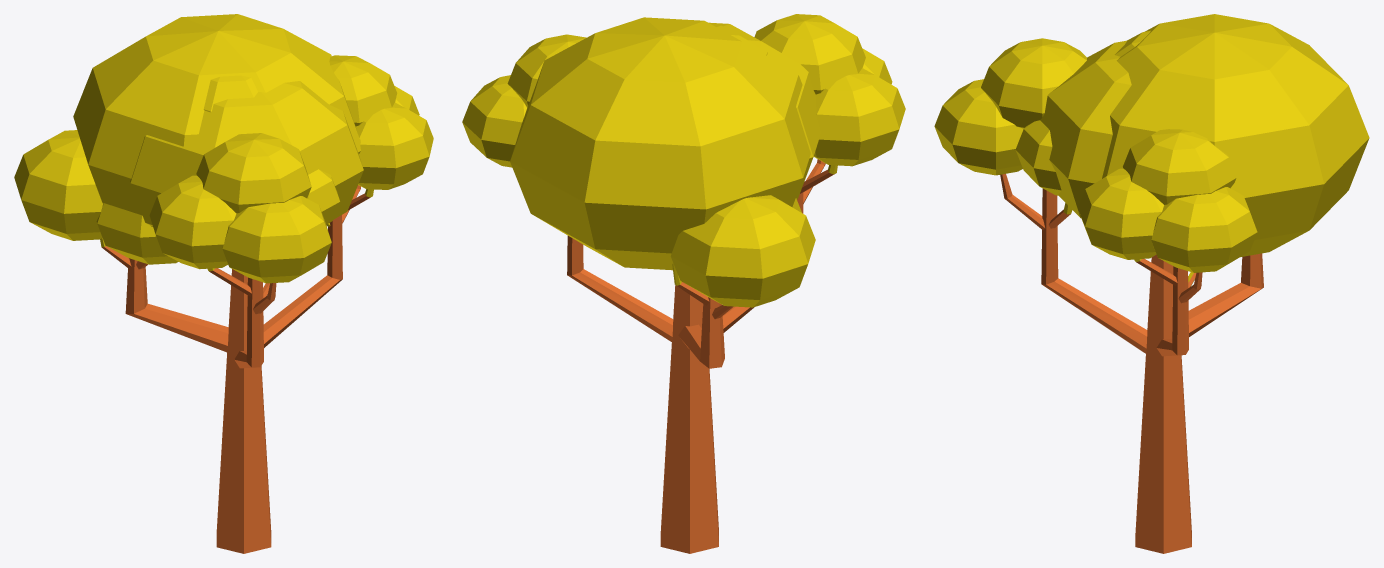
File: tree 1.fbx
The picture shows the model from 3 angles, left to right: view 1: azimuth 30°, elevation 25°; view 2: azimuth 150°, elevation 25°; view 3: azimuth 270°, elevation 25°; orthographic projection. The views are drawn at different scales.
Visible parts, largest first — view 1: Tree; view 2: Tree; view 3: Tree.
Part boxes in pixels (x1,y1,x2,y2): Tree: (14,14,433,553); Tree: (462,14,905,553); Tree: (934,14,1369,553).
Bounding box in the file's own units: 123 × 163 × 127.
